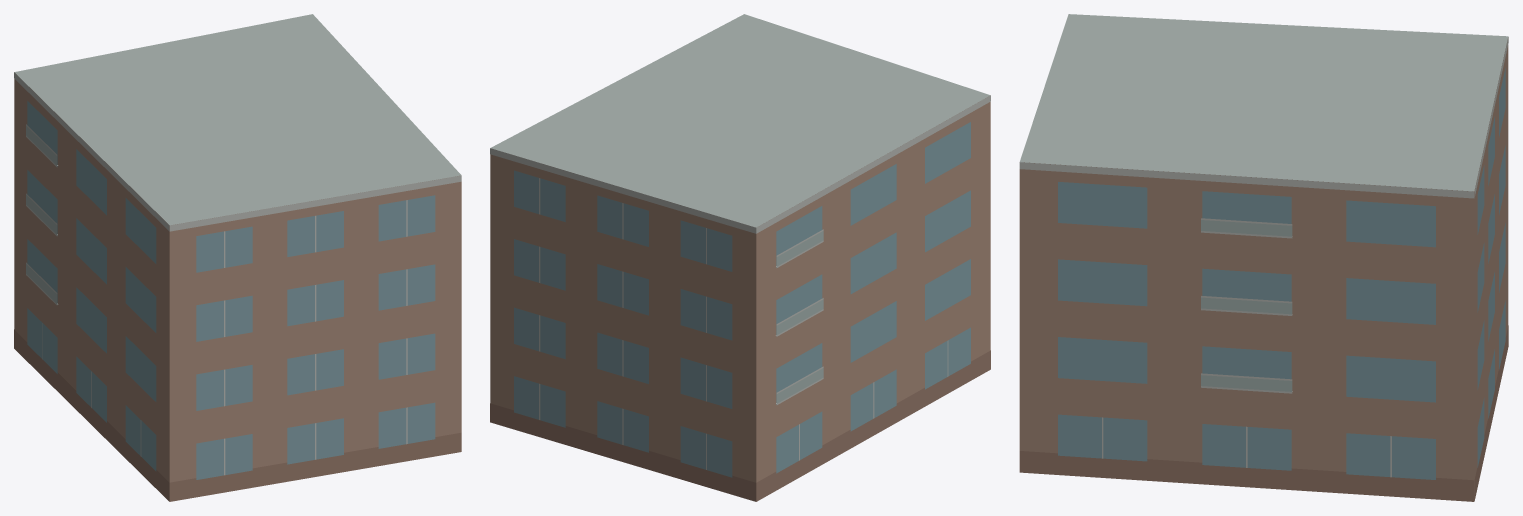
Rendered from survey-upis-32673725.glb.
3 renders of one model, left to right at view 1: azimuth 30°, elevation 25°; view 2: azimuth 150°, elevation 25°; view 3: azimuth 270°, elevation 25°, orthographic. The views are drawn at different scales.
Visible parts, largest first — view 1: survey-upis-32673725.tmp; view 2: survey-upis-32673725.tmp; view 3: survey-upis-32673725.tmp.
Boxes of the visible parts, <box> form: survey-upis-32673725.tmp: <box>14,14,461,501</box>; survey-upis-32673725.tmp: <box>490,14,990,501</box>; survey-upis-32673725.tmp: <box>1019,14,1508,501</box>.
Size of the model in its own units: 13.26 by 10.8 by 15.43.
